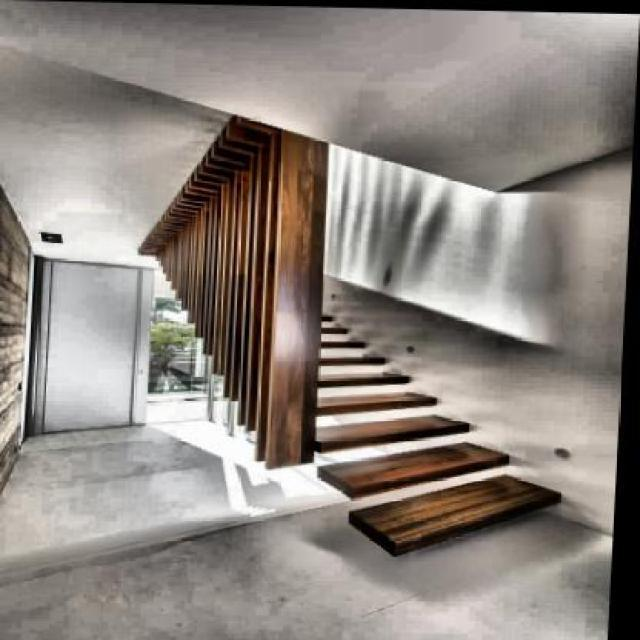stair: (286, 298, 585, 550)
